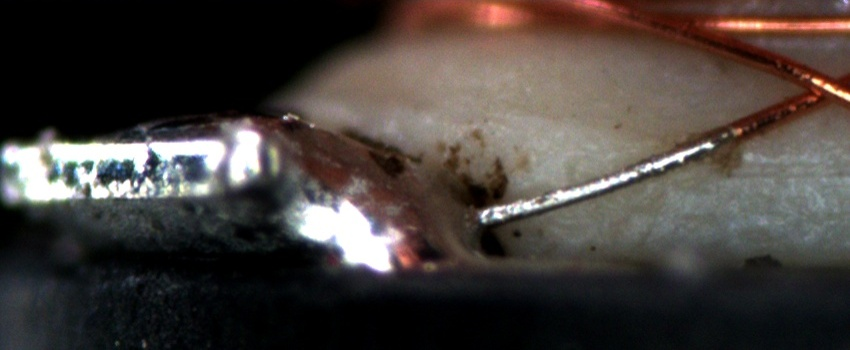CL: (778, 60, 847, 115)
DL: (726, 137, 850, 200)
TS: (477, 136, 717, 224)
